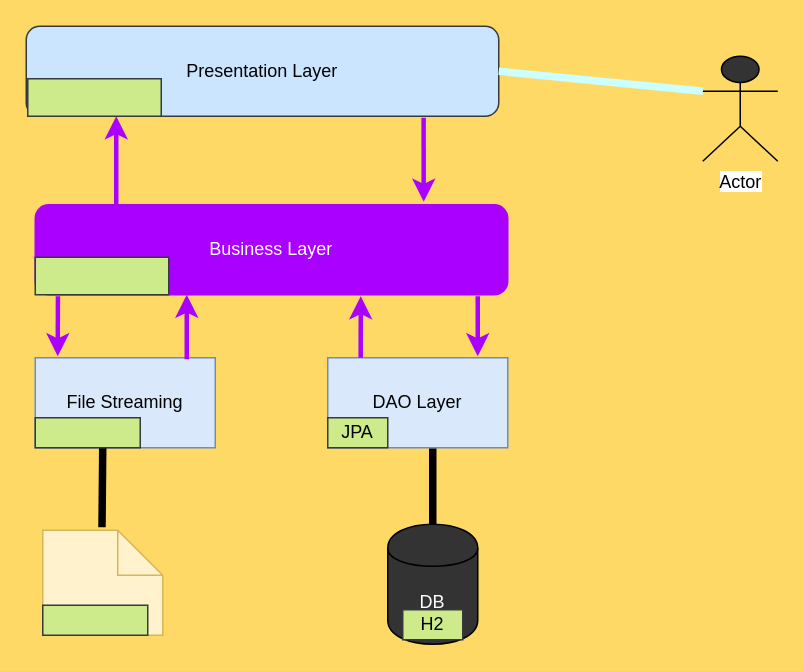
The diagram is 804 pixels wide and 671 high, and some of its shapes have lost their labels. The shapes that lost their labels are listed below. From the top down, each one's centre as x and y in pixels, then its label:
point (93, 96): JSP/Jquery
point (101, 275): Spring
point (87, 432): Codehaus
point (94, 619): FileSystem
